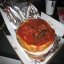pizza: (17, 18, 57, 50)
